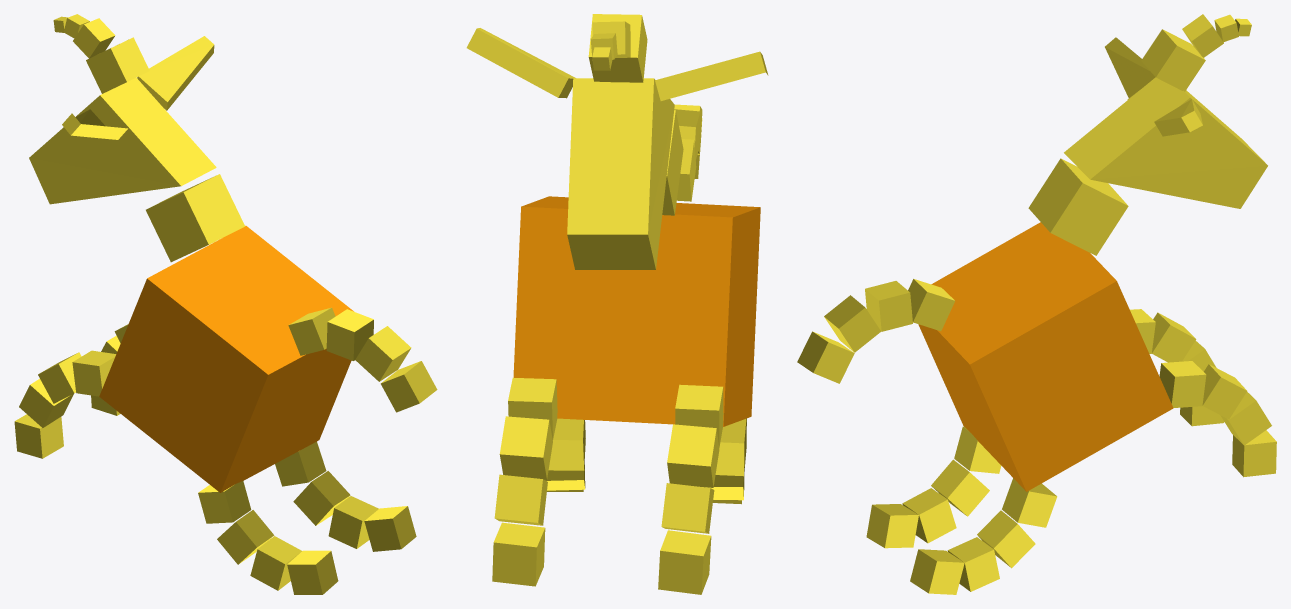
File: yellow-unicorn.glb
3 renders of one model, left to right at view 1: azimuth 30°, elevation 25°; view 2: azimuth 150°, elevation 25°; view 3: azimuth 270°, elevation 25°, orthographic. The views are drawn at different scales.
Visible parts, largest first — view 1: Node; view 2: Node; view 3: Node.
Part boxes in pixels (bbox=[...]): Node: bbox=[14, 14, 437, 594]; Node: bbox=[466, 14, 768, 594]; Node: bbox=[797, 14, 1276, 594].
Size of the model in its own units: 0.731 by 1.26 by 1.11.
